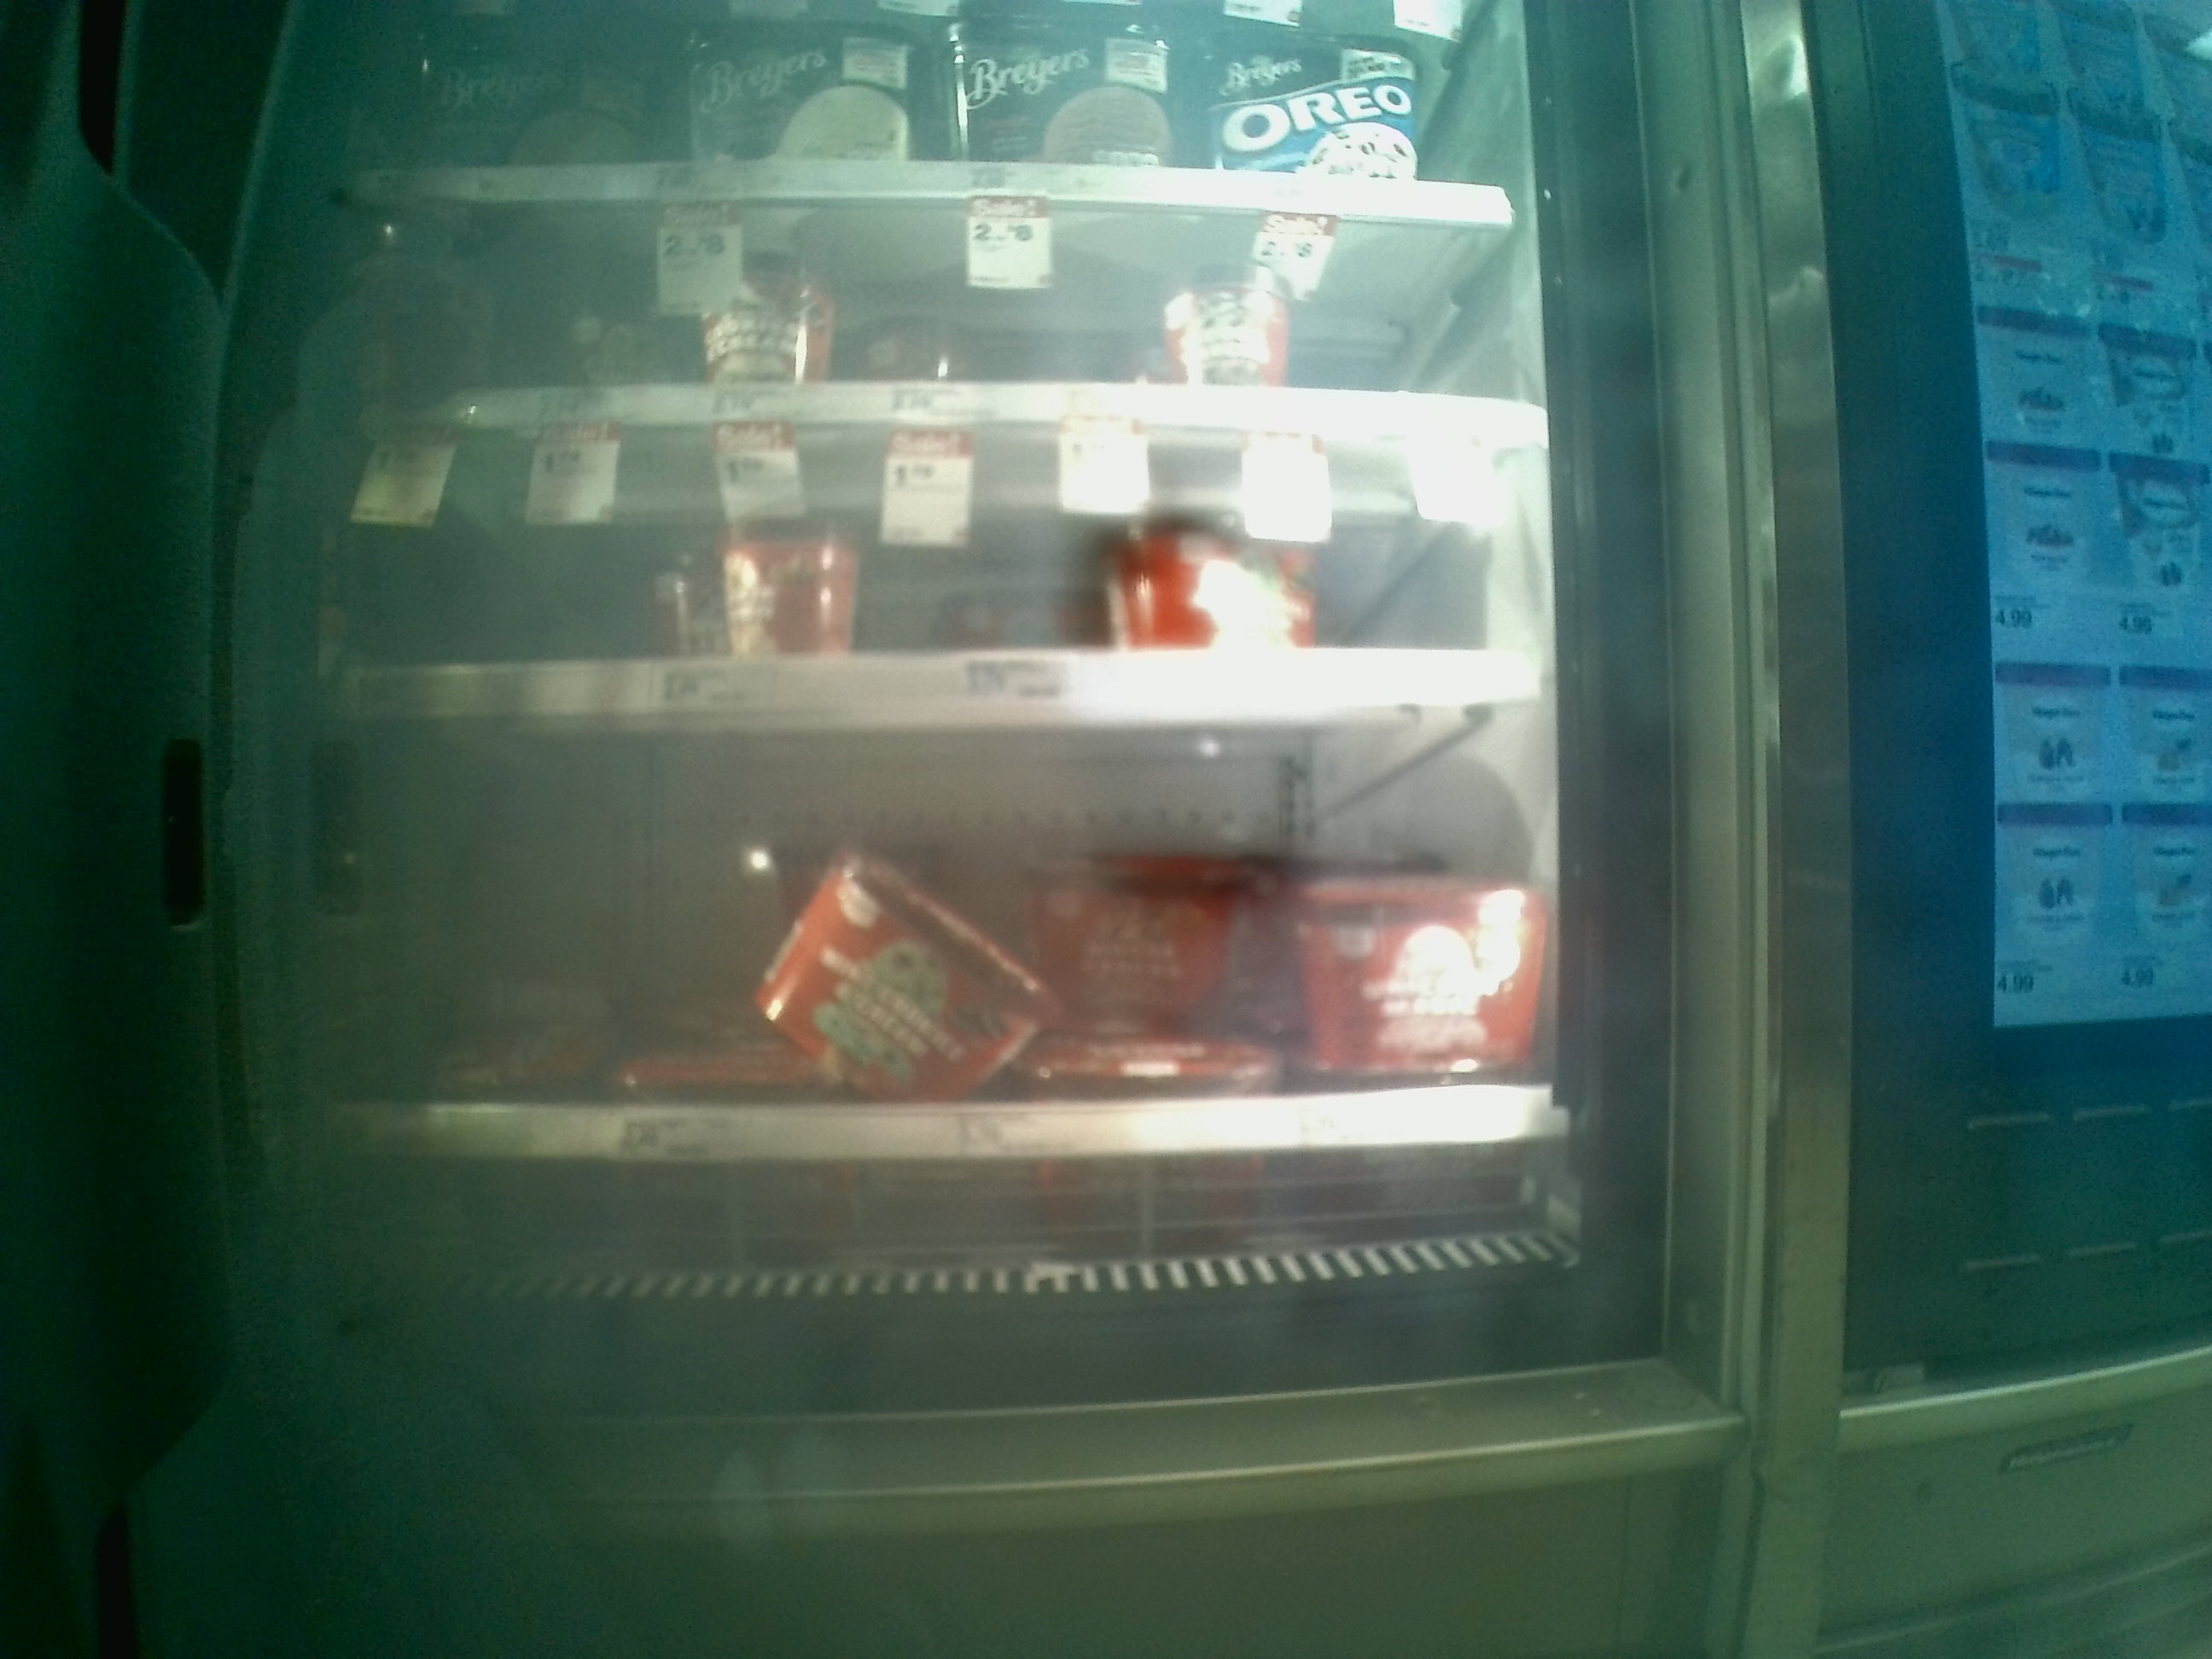shelf: (347, 721, 1571, 1258), (347, 430, 1575, 716), (348, 202, 1543, 432)
